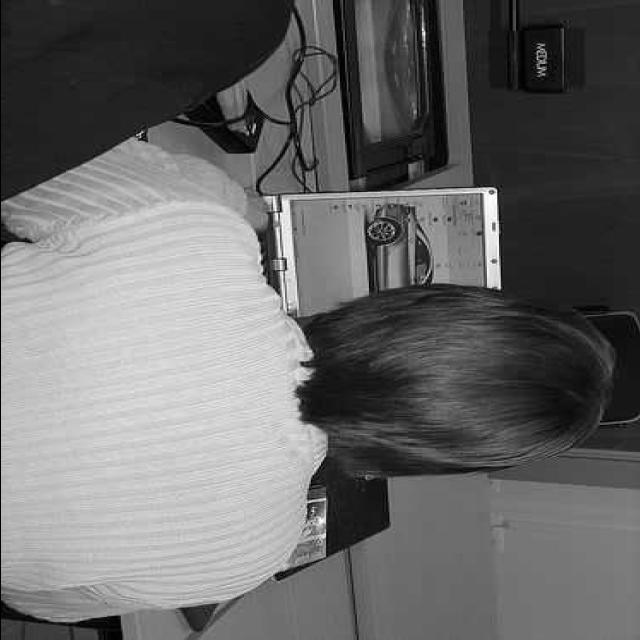laptop: (256, 184, 498, 440)
